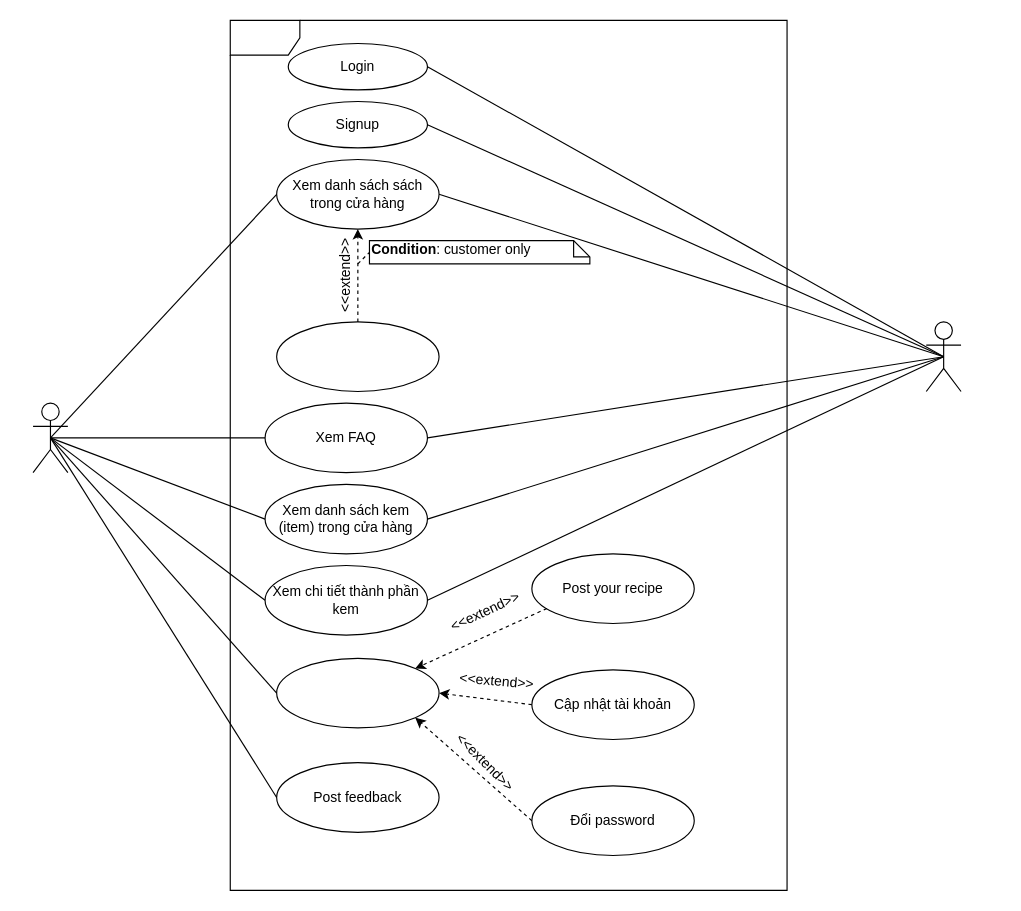
Some shapes in this 1021 by 911 pixel diagram are drawn without their labels. The shapes that lost their labels are listed below. From the top down, each one's box as (x1, y1, x2, y2) in pixels, then its label:
(276, 321, 439, 392): Đặt mua
(925, 321, 961, 392): Anonymous Guest
(32, 402, 68, 473): Customer
(229, 19, 787, 890): Icecream
(276, 657, 439, 728): Xem chi tiết tài khoản
